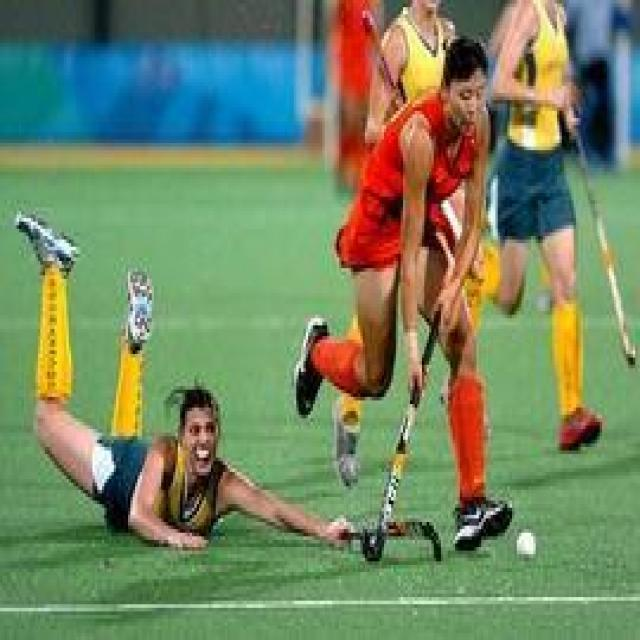fall: (14, 197, 360, 554)
